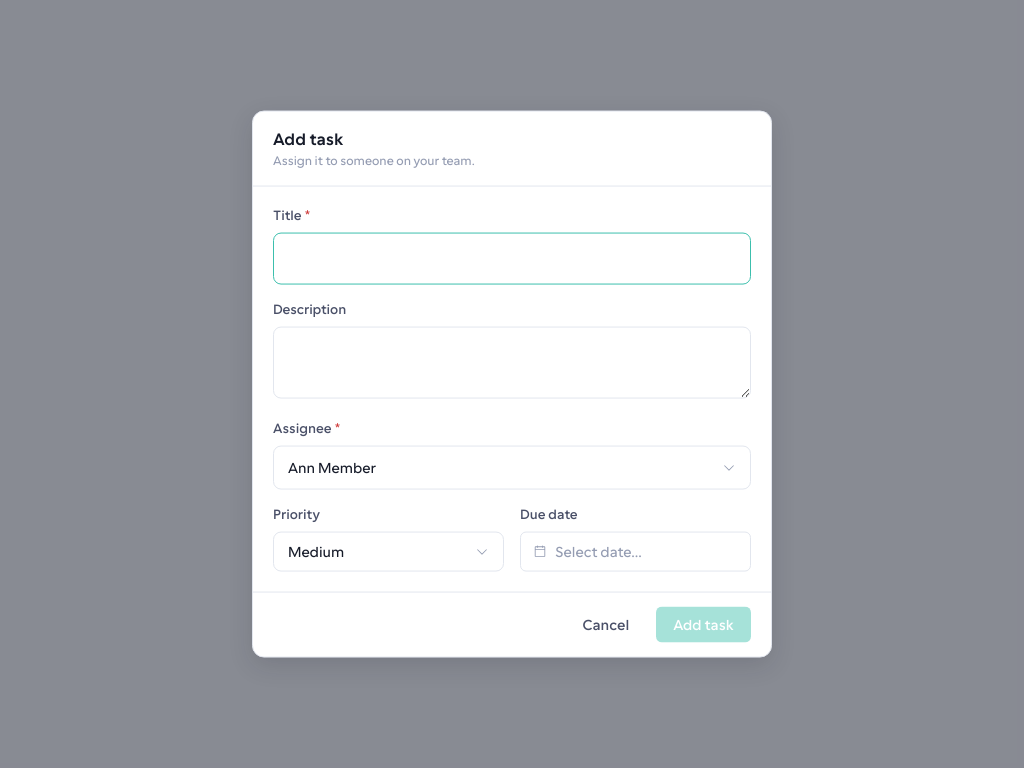
Test: TaskFormDialog › shows the server message when the create fails
The image size is (1024, 768).
Type "Order parts" into the field labelled "Title *" at (512, 258), box x1=273 y1=232 x2=751 y2=284
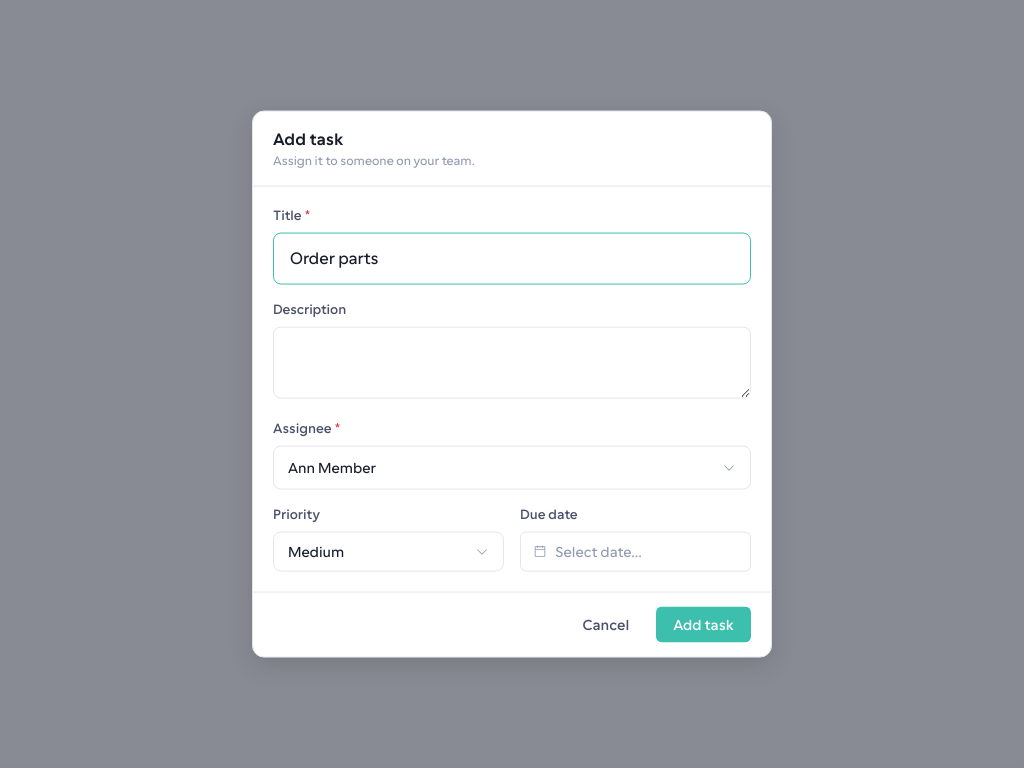
Click the button "Add task" at (704, 624), box x1=656 y1=606 x2=751 y2=642
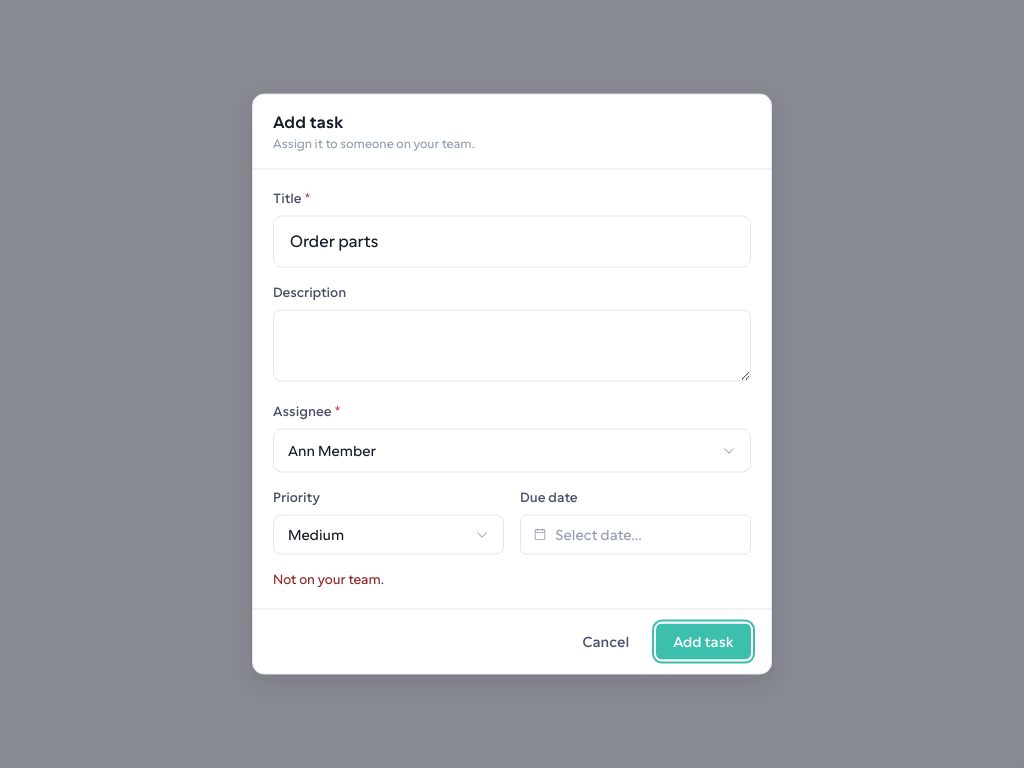
Now the message reads "Not on your team.", box x1=273 y1=572 x2=384 y2=586
